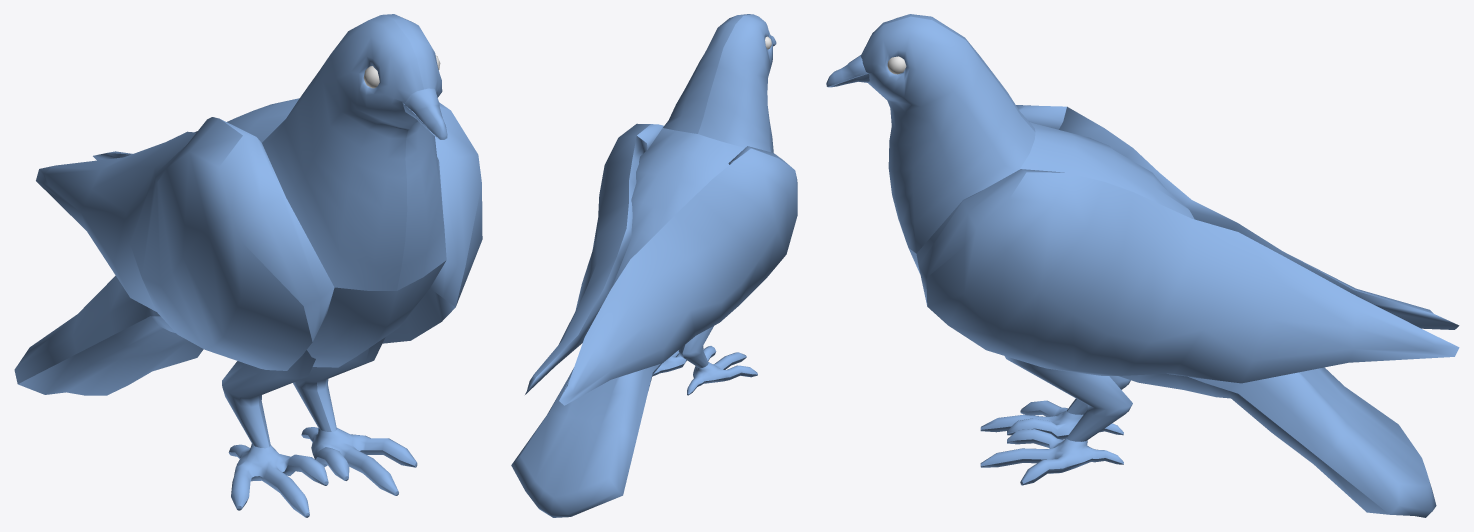
3 renders of one model, left to right at view 1: azimuth 30°, elevation 25°; view 2: azimuth 150°, elevation 25°; view 3: azimuth 270°, elevation 25°, orthographic. The views are drawn at different scales.
Parts seen in each view (by area): view 1: Untitled.001_meshes[1].000; view 2: Untitled.001_meshes[1].000; view 3: Untitled.001_meshes[1].000.
Boxes of the visible parts, box(x1,y1,x2,y2) form: Untitled.001_meshes[1].000: box(14, 14, 482, 517); Untitled.001_meshes[1].000: box(511, 14, 797, 517); Untitled.001_meshes[1].000: box(826, 14, 1459, 517).
Size of the model in its own units: 5.8 by 12.3 by 14.24.
